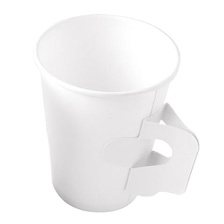paper_cup: (27, 7, 207, 217)
